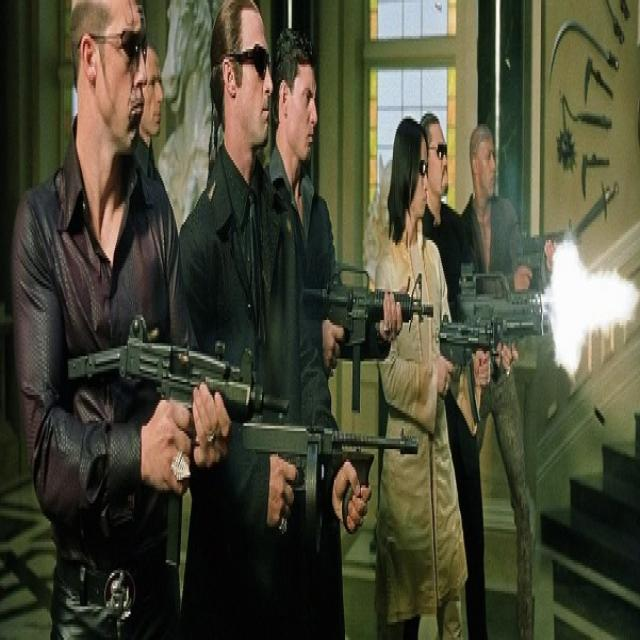rifle: (70, 308, 292, 570), (242, 410, 424, 547), (301, 261, 436, 433)
